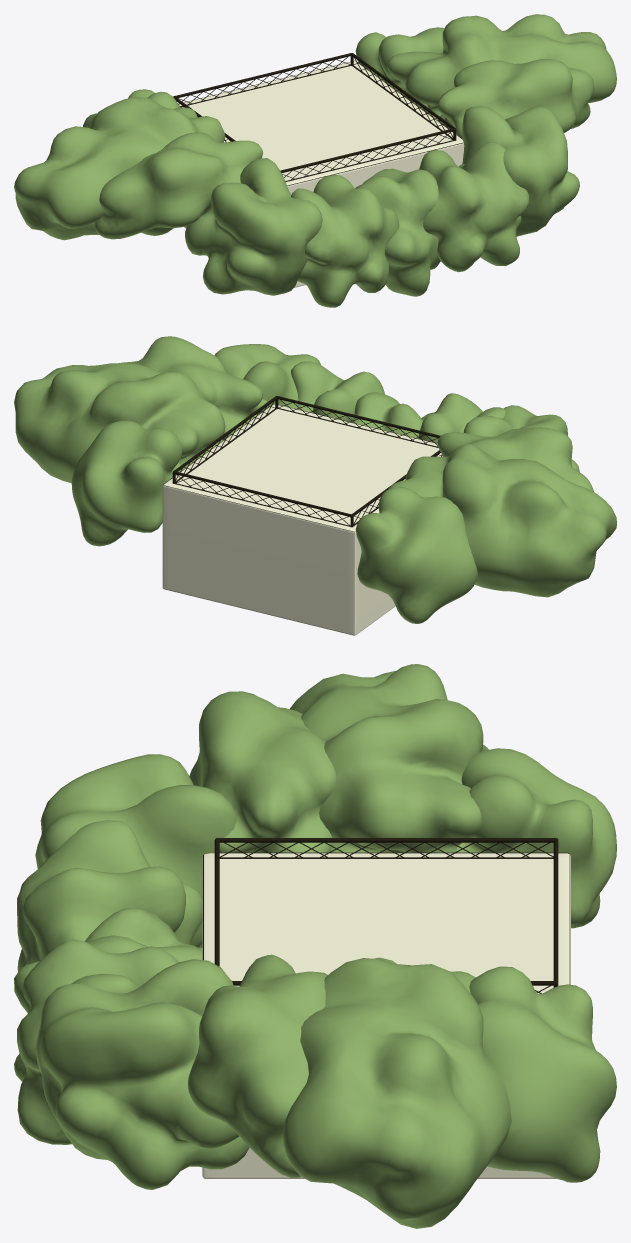
Rendered from 3D game scene.fbx.
3 views of the same model, one above another, from view 1: azimuth 30°, elevation 25°; view 2: azimuth 150°, elevation 25°; view 3: azimuth 270°, elevation 25° (orthographic). The views are drawn at different scales.
Parts seen in each view (by area): view 1: p22, p44, pCube1, p55, p33, p66, p11, polySurface3, pCube68, polySurface4; view 2: pCube1, p22, p11, p33, p44, p55, polySurface3, p66, pCube68, polySurface4, pCube67; view 3: p22, p44, pCube1, p11, p33, p55, p66, polySurface3, pCube67.
Part boxes in pixels (bbox=[...]): p22: bbox=[14, 14, 616, 240]; p44: bbox=[185, 105, 579, 295]; pCube1: bbox=[179, 61, 464, 287]; p55: bbox=[291, 142, 529, 307]; p33: bbox=[95, 59, 594, 239]; p66: bbox=[355, 168, 440, 296]; p11: bbox=[83, 27, 444, 128]; polySurface3: bbox=[173, 53, 456, 172]; pCube68: bbox=[178, 57, 453, 179]; polySurface4: bbox=[180, 65, 453, 181]; pCube1: bbox=[162, 404, 442, 635]; p22: bbox=[14, 362, 616, 597]; p11: bbox=[71, 420, 477, 623]; p33: bbox=[121, 336, 593, 491]; p44: bbox=[214, 344, 579, 471]; p55: bbox=[291, 361, 505, 443]; polySurface3: bbox=[172, 396, 440, 527]; p66: bbox=[351, 392, 423, 438]; pCube68: bbox=[175, 399, 437, 526]; polySurface4: bbox=[175, 408, 438, 526]; pCube67: bbox=[175, 401, 442, 524]; p22: bbox=[283, 664, 511, 1228]; p44: bbox=[35, 754, 249, 1189]; pCube1: bbox=[202, 853, 570, 1178]; p11: bbox=[456, 748, 616, 1182]; p33: bbox=[188, 691, 336, 1177]; p55: bbox=[14, 820, 202, 1144]; p66: bbox=[14, 908, 202, 1012]; polySurface3: bbox=[214, 838, 558, 987]; pCube67: bbox=[219, 842, 553, 993].
Size of what is drawn, in the model's own units: 584 by 154 by 315.
